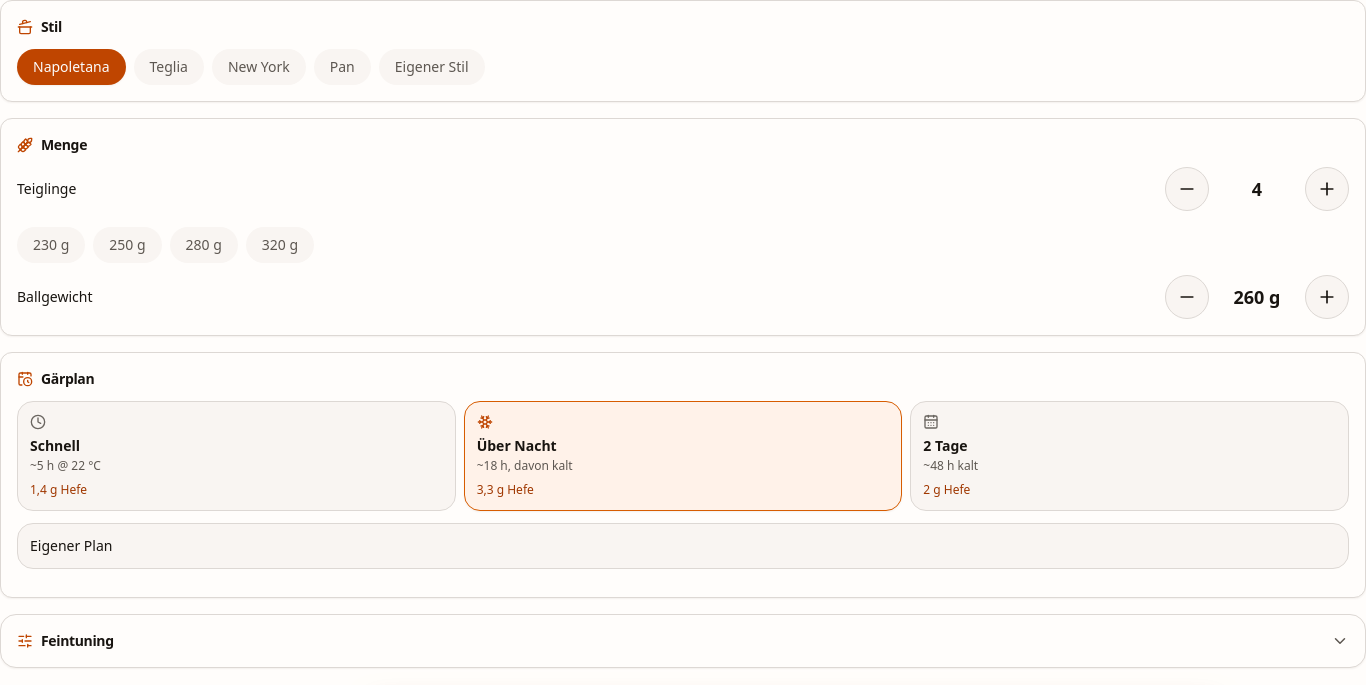
Test: CalculatorPage › highlights the matching preset again after leaving a custom plan
Click the button "Eigener Plan" at (71, 546), box [17, 523, 1349, 569]
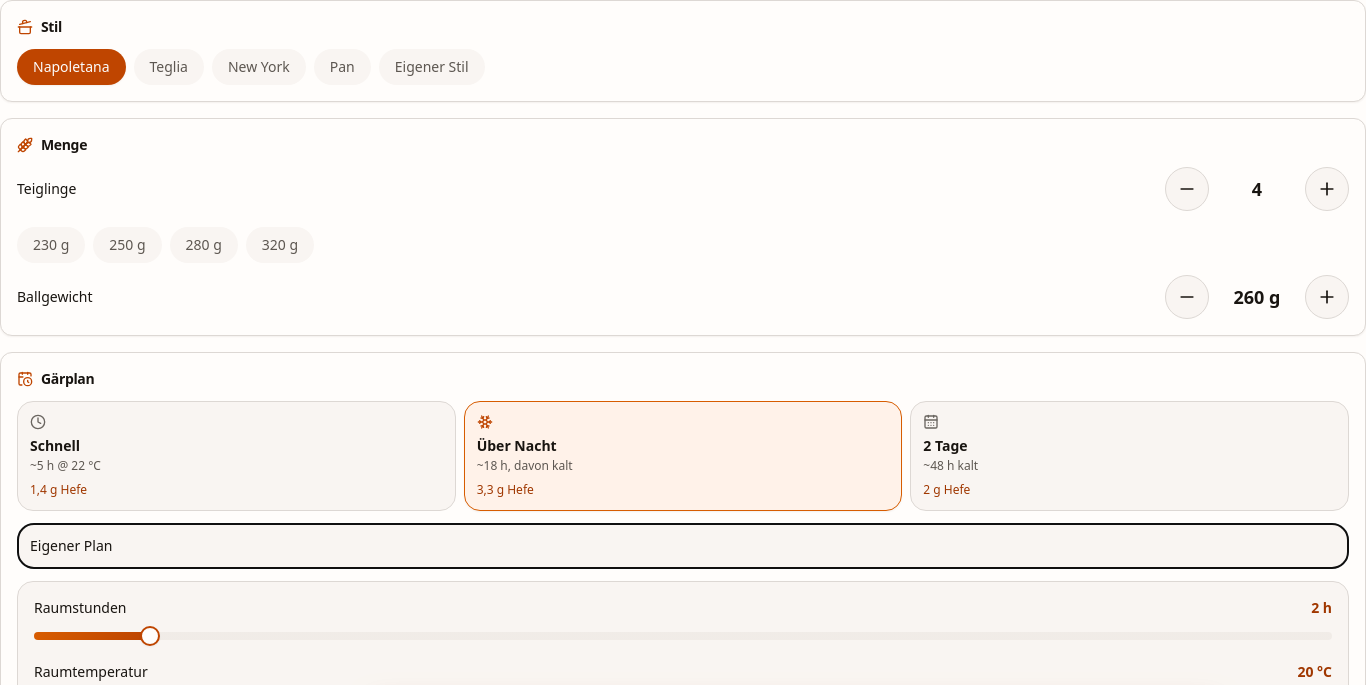
Click the button "Schnell ~5 h @ 22 °C 1,4 g Hefe" at (55, 446), box [17, 401, 456, 511]
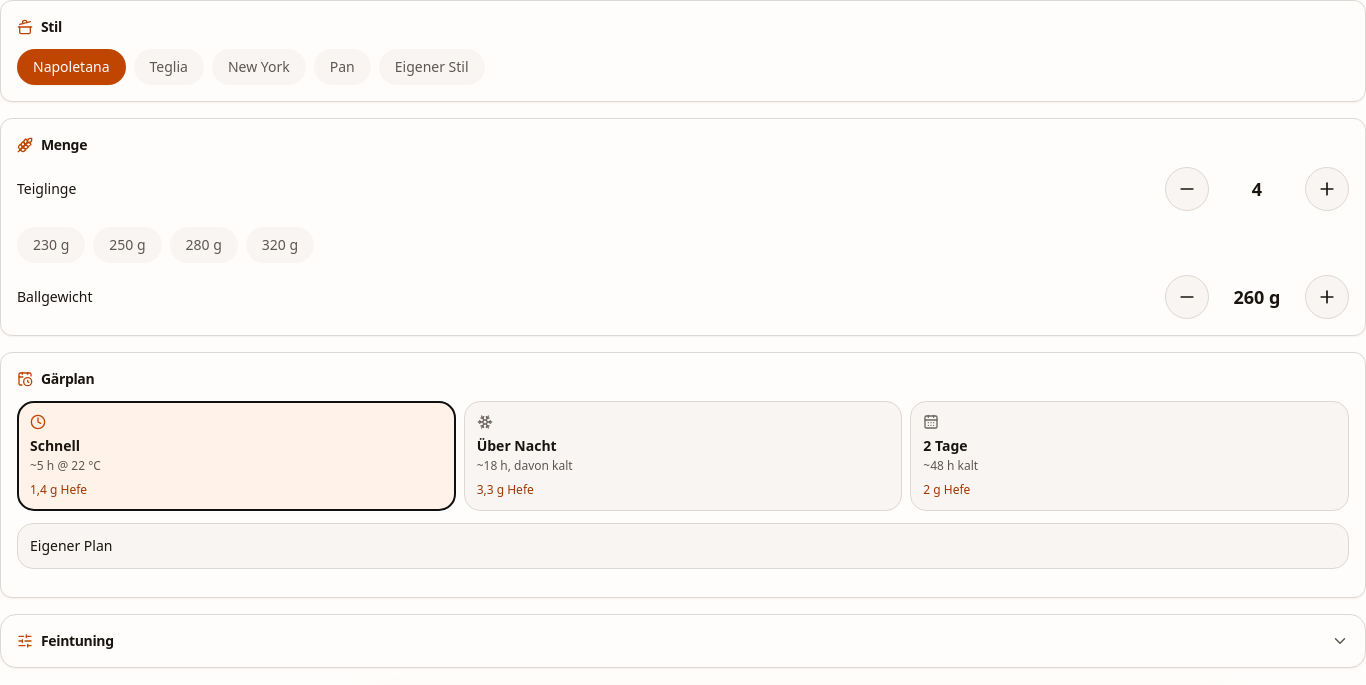
Expected: the button "Eigener Plan" is collapsed, [17, 523, 1349, 569]
